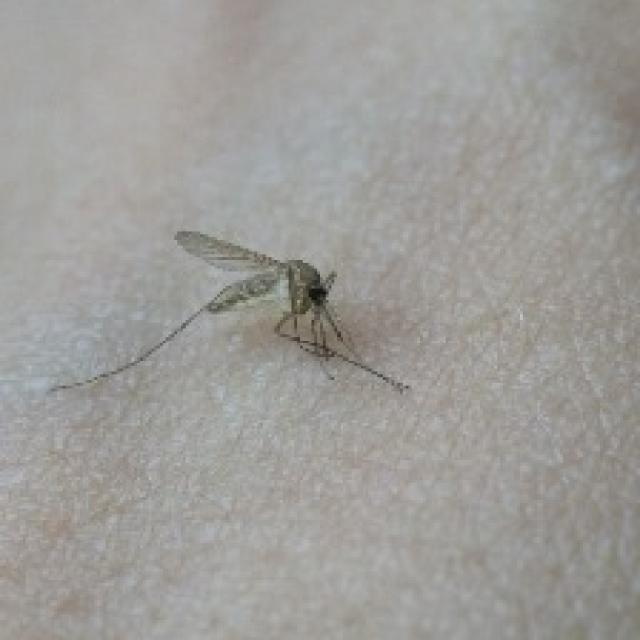culex: (46, 226, 408, 397)
